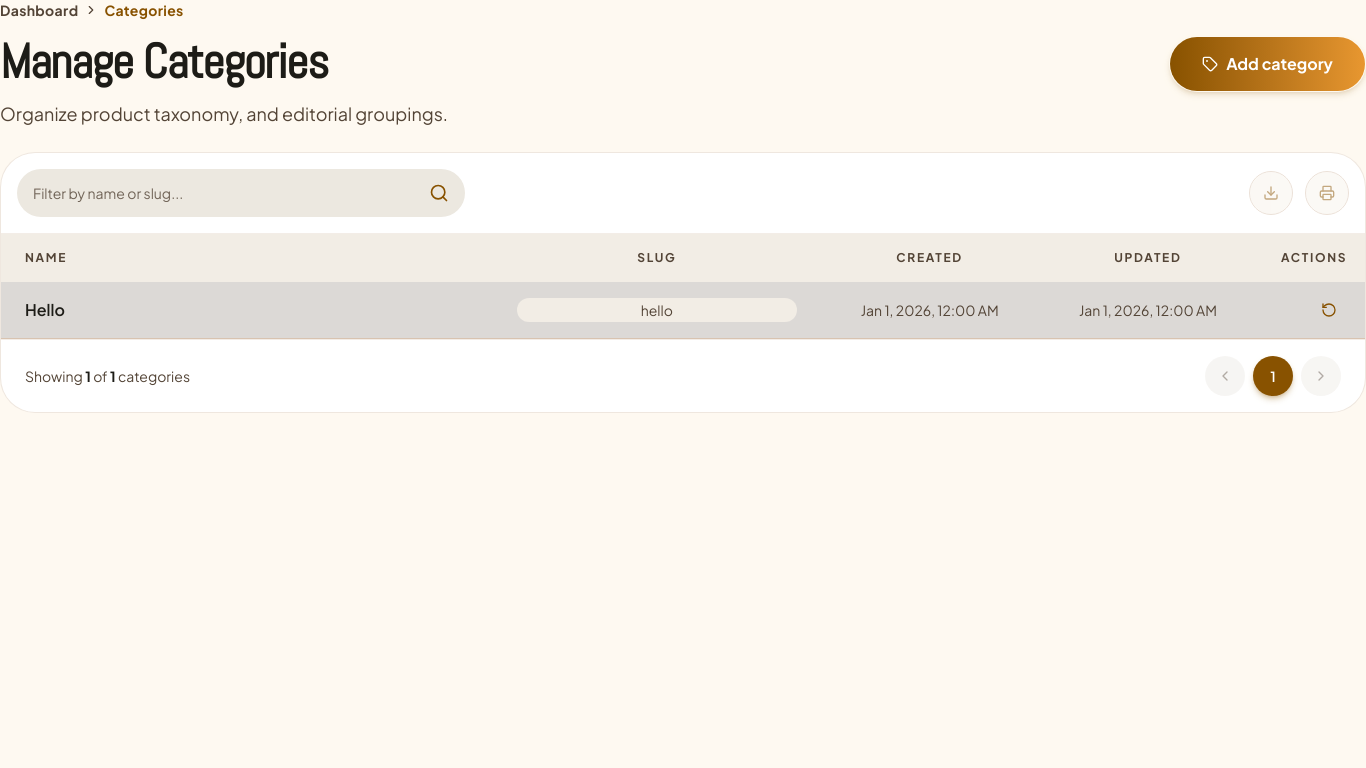
Categories PageContent › restore › opens the restore dialog with the restore texts
Click the button named "restore hello". click: (1329, 310)
box: 1317,298 -> 1341,322
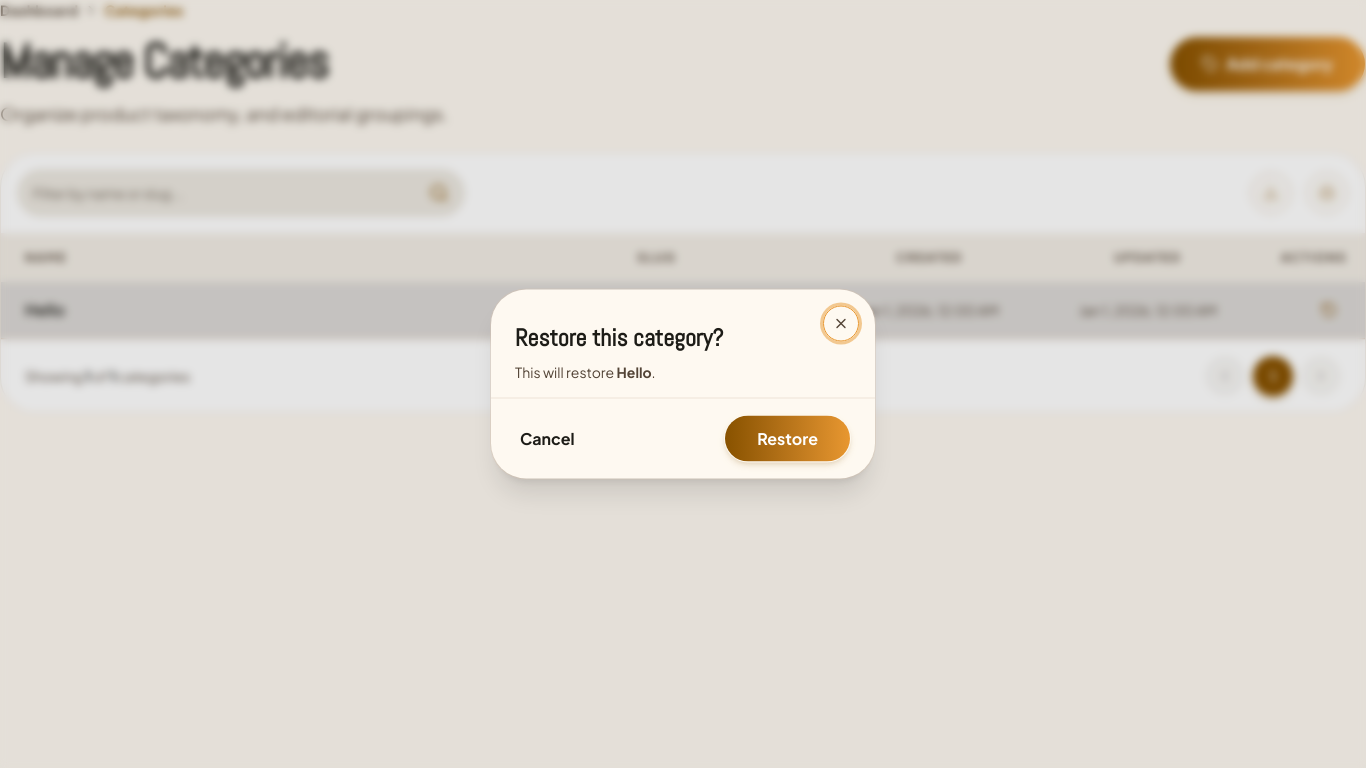
Check: the heading "Restore this category?" is shown, box 515,322 -> 723,354
Check: the dialog with test id "modal-confirm-restore-category" shows "This will restore Hello.", box 491,290 -> 875,478
Check: the button "Restore" is shown, box 724,414 -> 851,462
